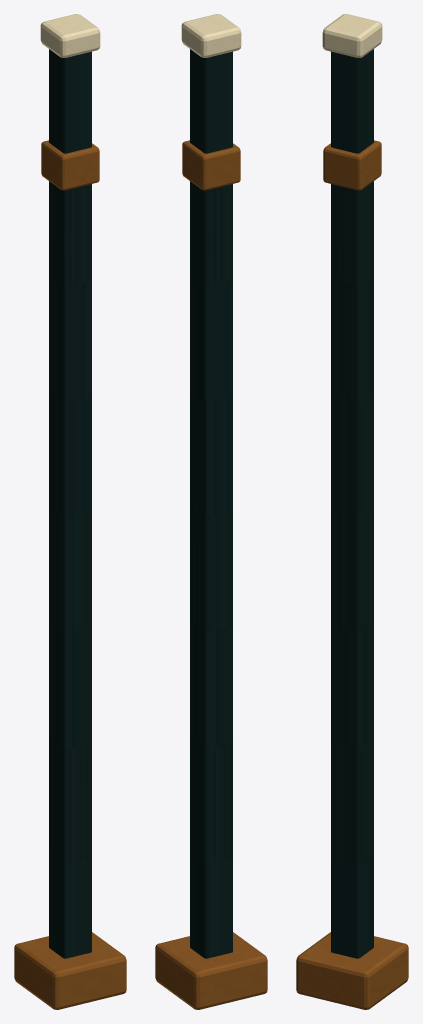
File: street-post.glb
The picture shows the model from 3 angles, left to right: view 1: azimuth 30°, elevation 25°; view 2: azimuth 210°, elevation 25°; view 3: azimuth 330°, elevation 25°; orthographic projection.
Parts seen in each view (by area): view 1: Post, GroundShoe, BrassCollar, IvoryCap; view 2: Post, GroundShoe, BrassCollar, IvoryCap; view 3: Post, GroundShoe, BrassCollar, IvoryCap.
Part boxes in pixels (x1,y1,x2,y2): Post: (49,49,91,958); GroundShoe: (14,932,126,1009); BrassCollar: (41,140,99,190); IvoryCap: (40,14,100,57); Post: (190,49,232,958); GroundShoe: (155,932,267,1009); BrassCollar: (182,140,240,190); IvoryCap: (181,14,241,57); Post: (331,49,373,958); GroundShoe: (296,932,408,1009); BrassCollar: (323,140,381,190); IvoryCap: (322,14,382,57).
Bounding box in the file's own units: 0.22 × 2.75 × 0.22.
Materials: 3 (3 with a texture image).
